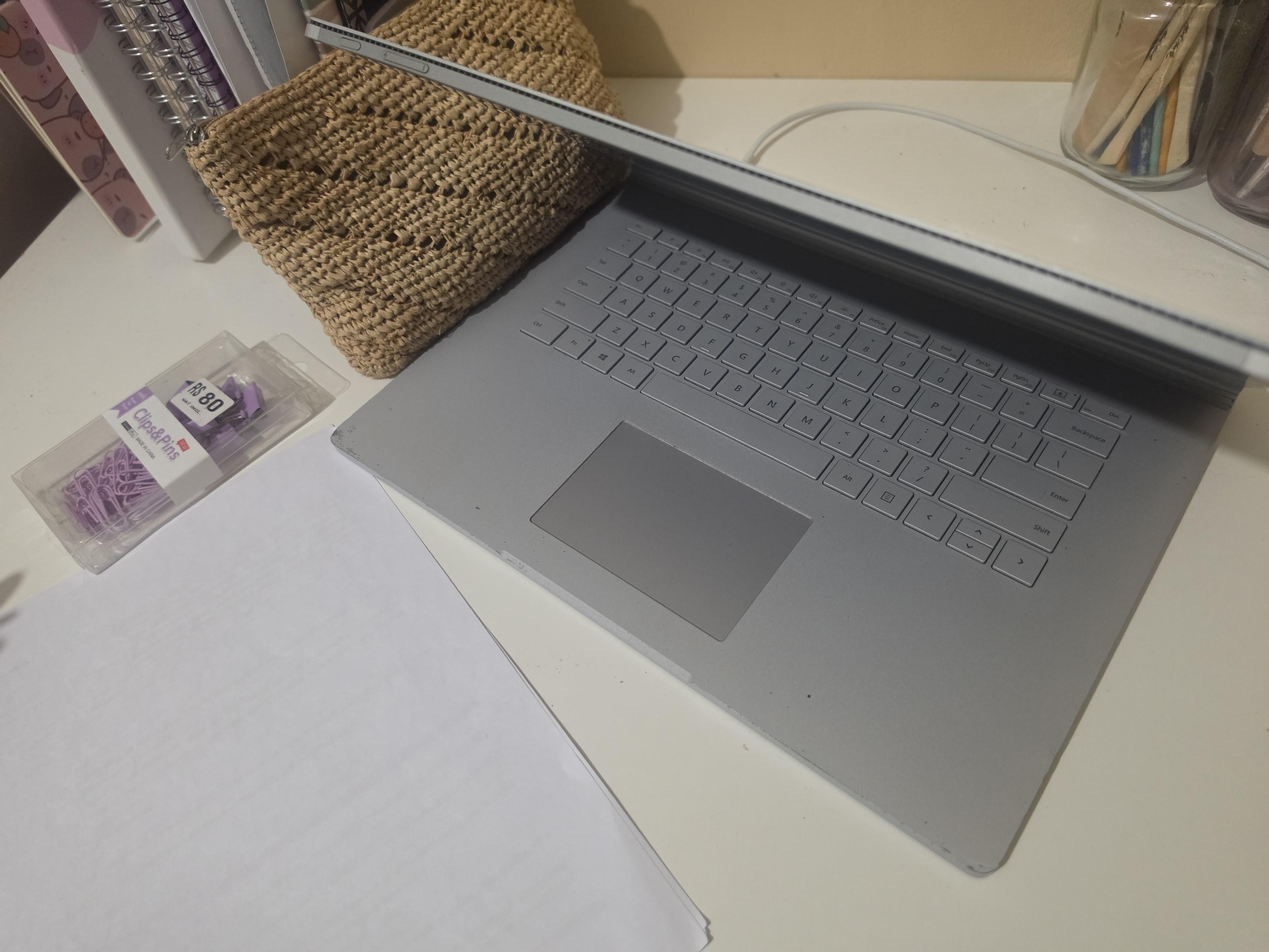laptop: (303, 0, 1268, 878)
